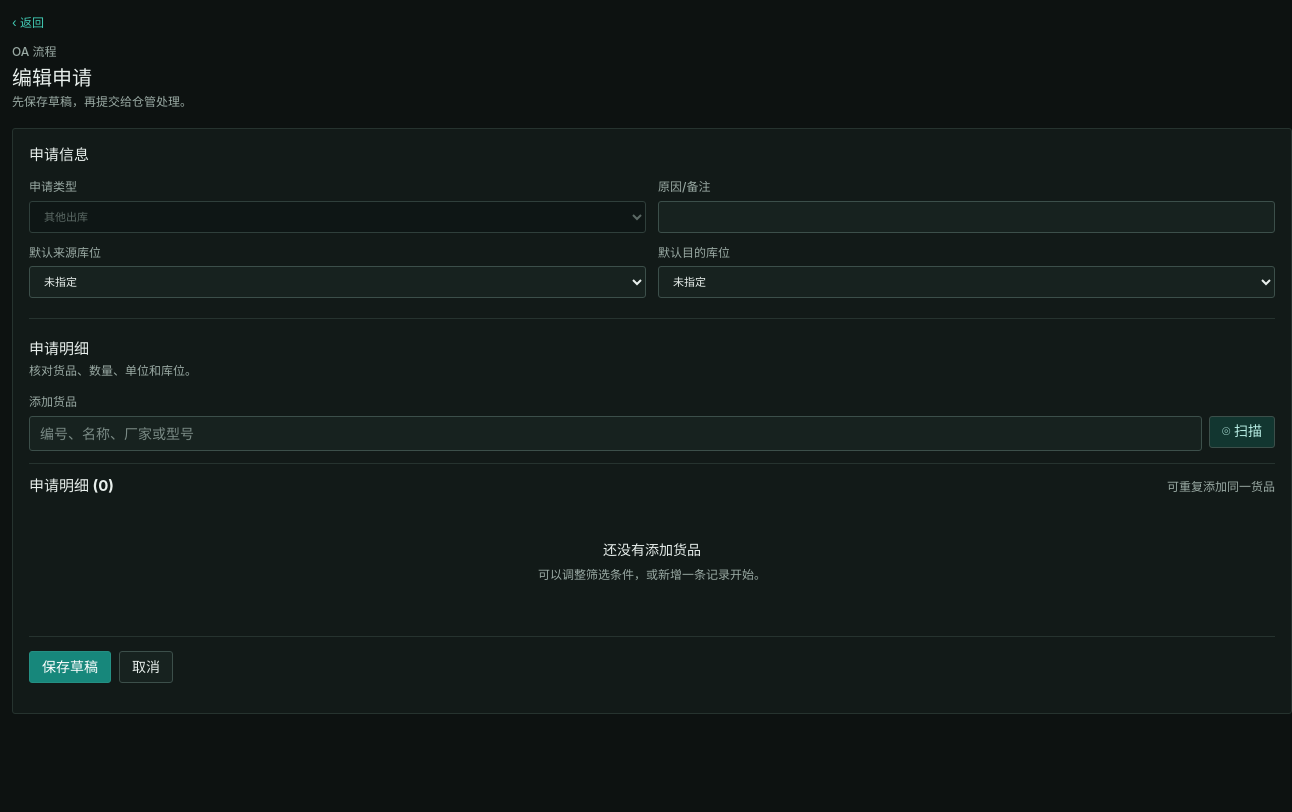
Scenario: 表单保存反馈与防重复提交 › 保存失败时保留申请说明，申请类型在编辑态不可更改
The width and height of the screenshot is (1292, 812).
Type "未保存的新增说明" into the field labelled "原因/备注".
click(966, 217); type("未保存的新增说明")  # box [658,201,1275,233]
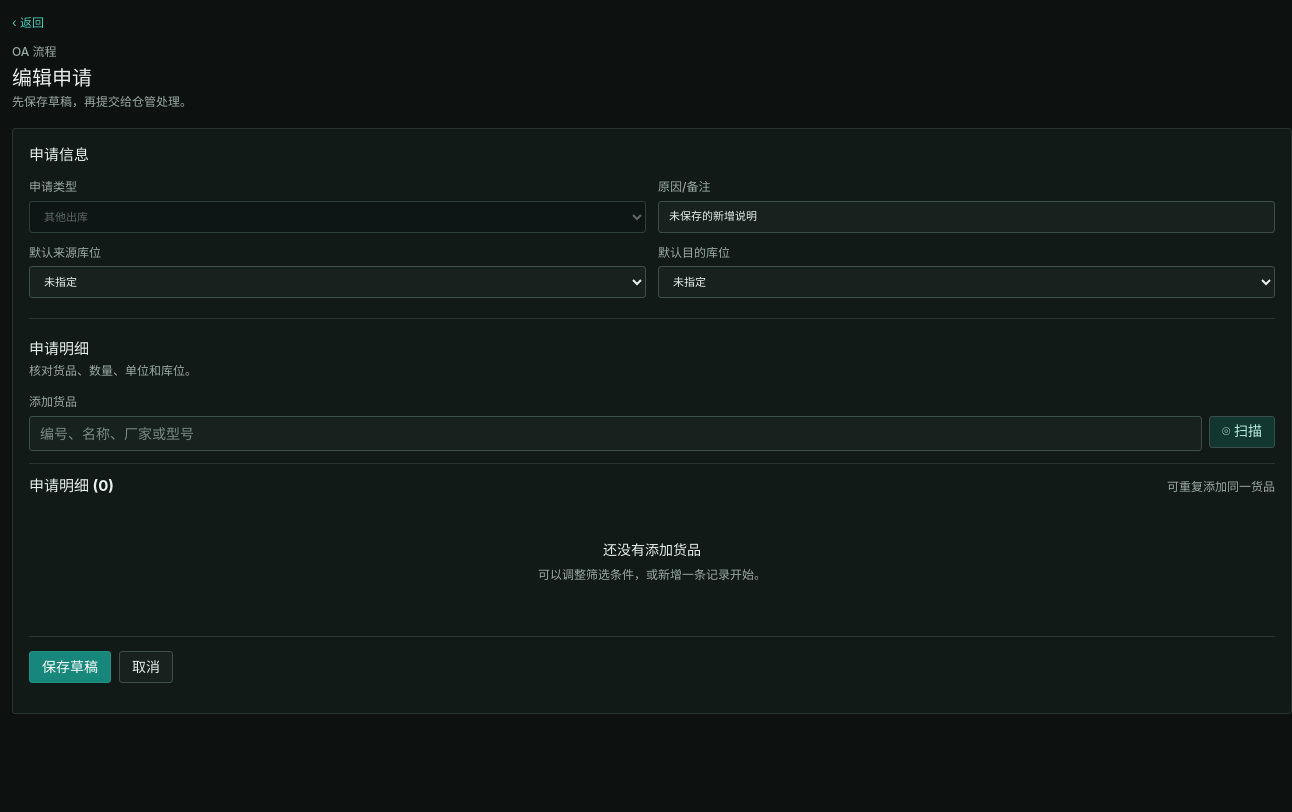
Submit the form named "保存草稿"
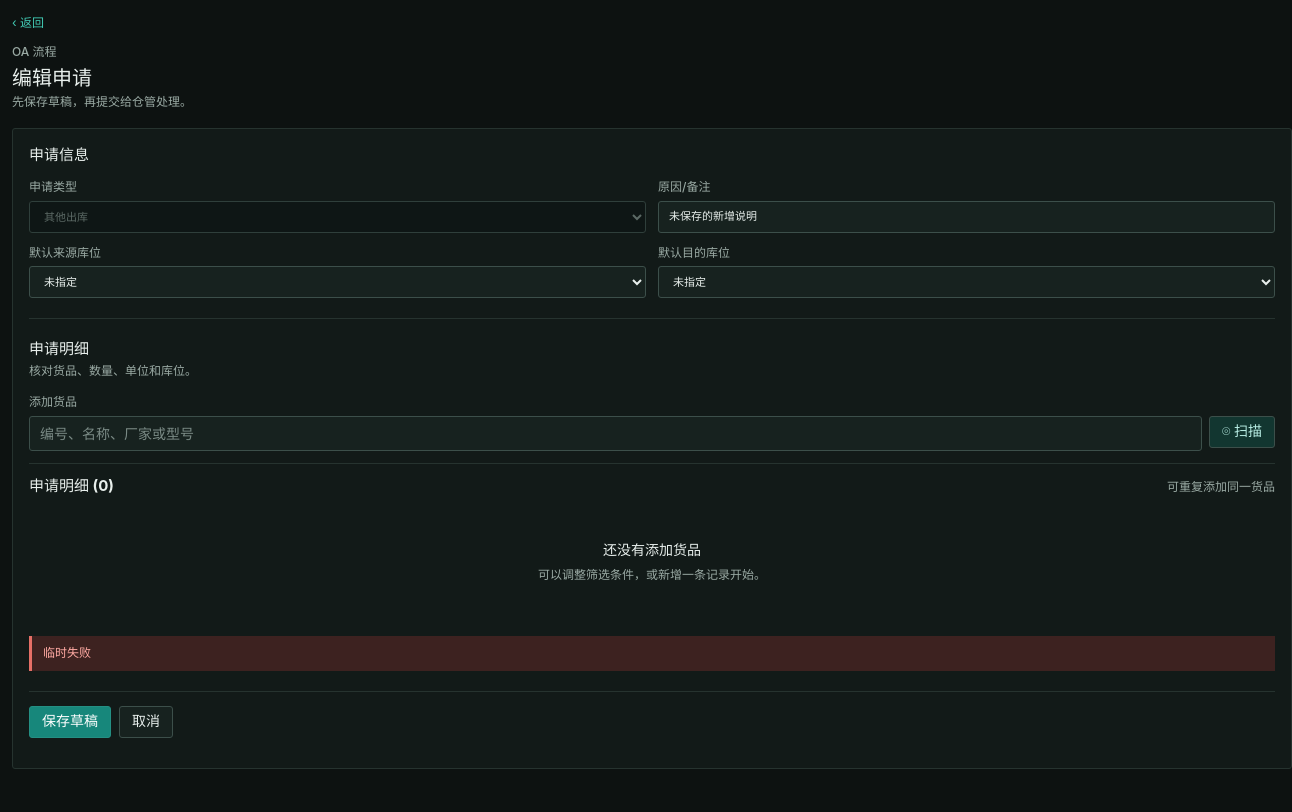
Expected: the dropdown labelled "申请类型" is disabled, [29,201,646,233]
Expected: the message "临时失败" is shown, [29,636,1275,671]
